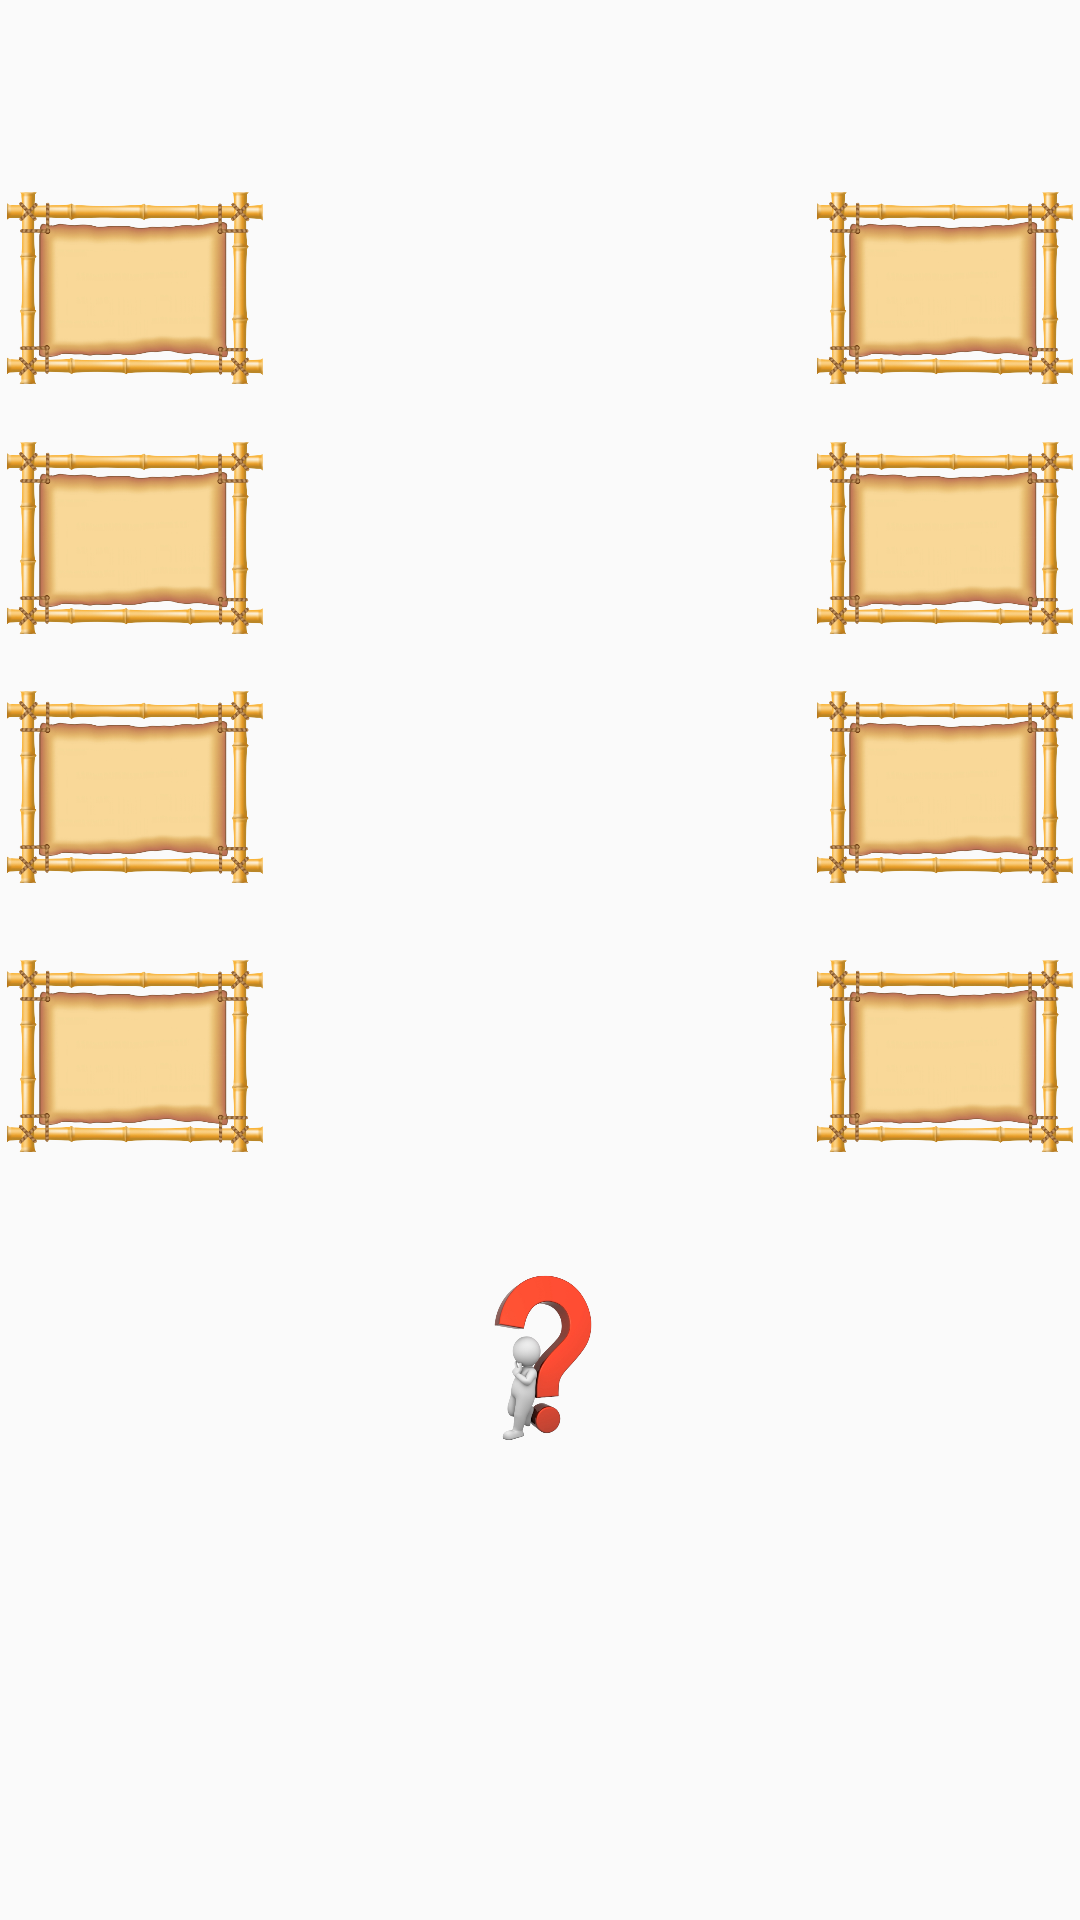

Icon bounding boxes for this 1080px x 1920px phone screenshot, format bbox(x1, y1, x2, y2):
forest blackboard: bbox(7, 192, 263, 384), bbox(817, 192, 1073, 384), bbox(7, 442, 263, 634), bbox(817, 442, 1073, 634), bbox(7, 691, 263, 883), bbox(817, 691, 1073, 883), bbox(7, 960, 263, 1152), bbox(817, 960, 1073, 1152)
question mark: bbox(494, 1276, 592, 1440)
